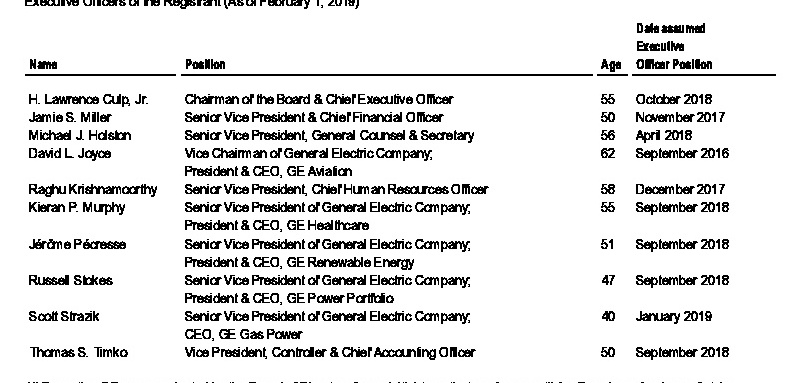table: (0, 0, 789, 383)
